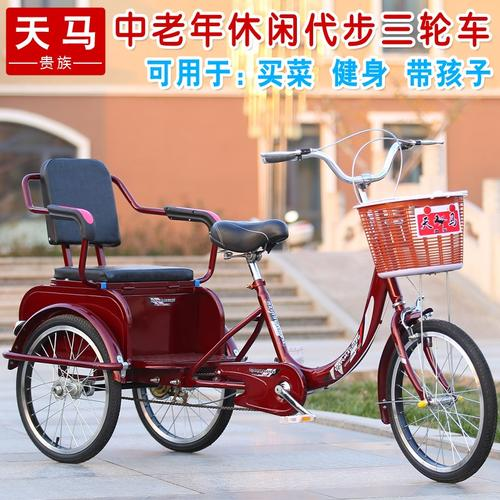empty: (8, 130, 500, 496)
